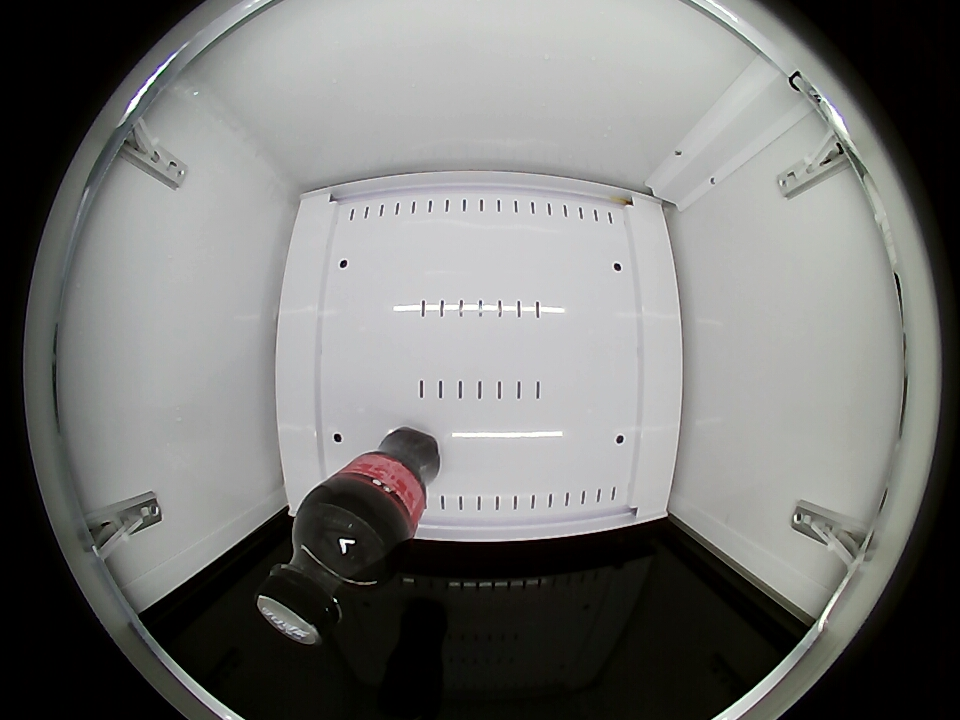lingdukele-b: (256, 505, 392, 644)
